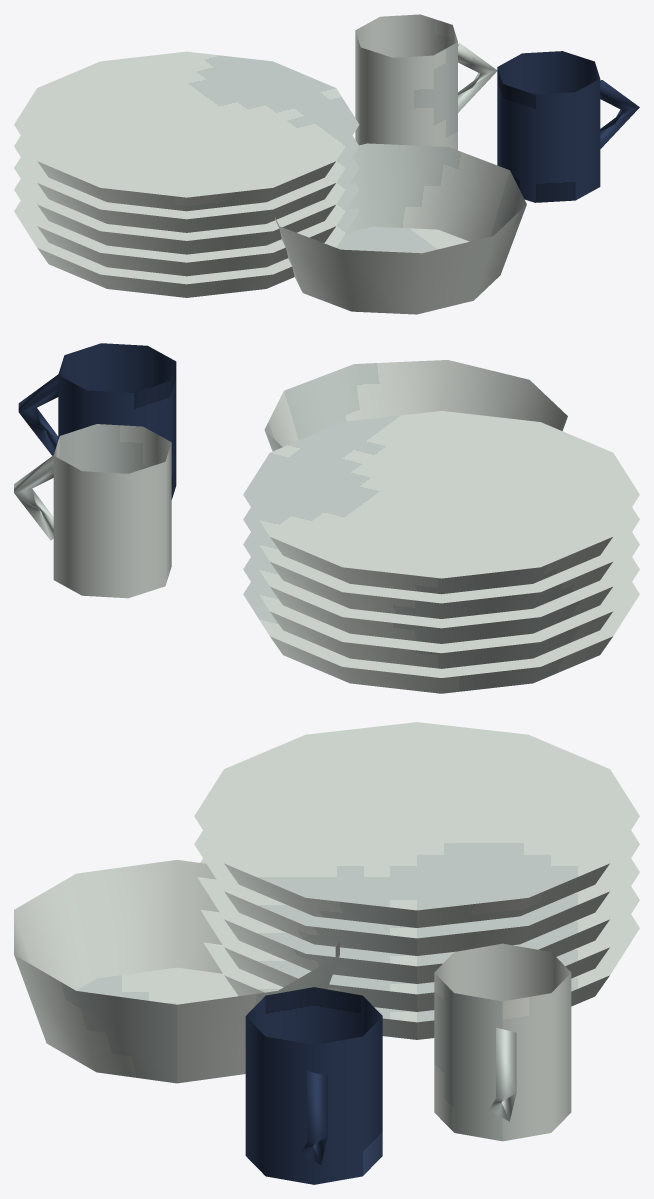
The model's file is RES_Dishes_Set.obj.
3 renders of one model, top to bottom at view 1: azimuth 30°, elevation 25°; view 2: azimuth 150°, elevation 25°; view 3: azimuth 270°, elevation 25°, orthographic. The views are drawn at different scales.
Parts seen in each view (by area): view 1: RES_Dishes_Set_Mesh_M_Res_Porcelain, RES_Dishes_Set_Mesh_M_Town_PaintNavy; view 2: RES_Dishes_Set_Mesh_M_Res_Porcelain, RES_Dishes_Set_Mesh_M_Town_PaintNavy; view 3: RES_Dishes_Set_Mesh_M_Res_Porcelain, RES_Dishes_Set_Mesh_M_Town_PaintNavy.
Part boxes in pixels (left/top/right/bottom): RES_Dishes_Set_Mesh_M_Res_Porcelain: left=14, top=14, right=526, bottom=314; RES_Dishes_Set_Mesh_M_Town_PaintNavy: left=497, top=51, right=639, bottom=202; RES_Dishes_Set_Mesh_M_Res_Porcelain: left=14, top=360, right=639, bottom=693; RES_Dishes_Set_Mesh_M_Town_PaintNavy: left=18, top=343, right=176, bottom=499; RES_Dishes_Set_Mesh_M_Res_Porcelain: left=14, top=722, right=639, bottom=1141; RES_Dishes_Set_Mesh_M_Town_PaintNavy: left=245, top=987, right=382, bottom=1184.
Bounding box in the file's own units: 0.4869 × 0.09 × 0.3651.
2 materials, 2 textured.
